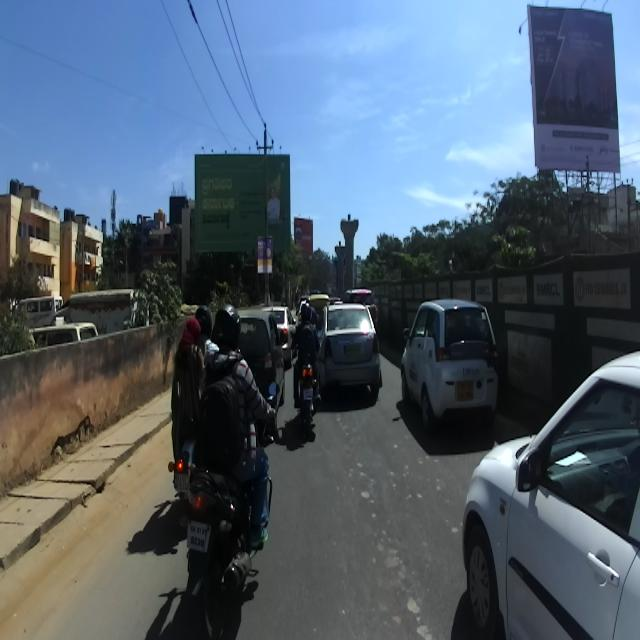car ahead at: (402, 296, 505, 434), (318, 303, 391, 407)
motorcycle ahead at: (174, 449, 256, 634)
